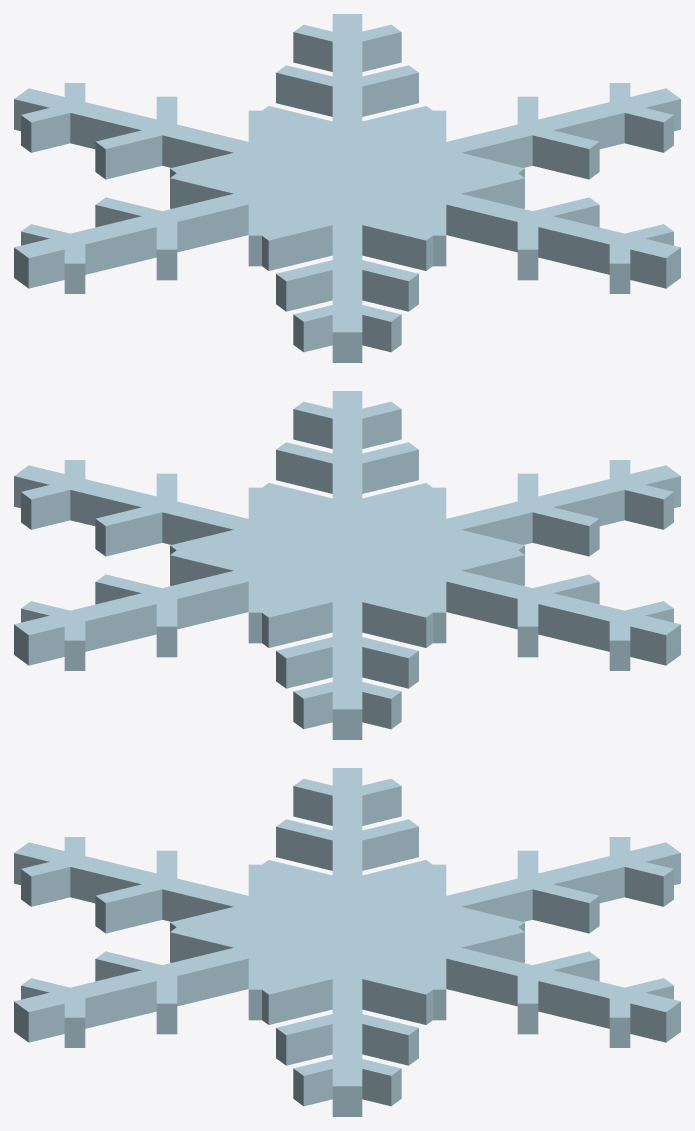
The model's file is NEW_RECOVERY_071_LOD1.fbx.
3 renders of one model, top to bottom at view 1: azimuth 30°, elevation 25°; view 2: azimuth 150°, elevation 25°; view 3: azimuth 270°, elevation 25°, orthographic.
Parts seen in each view (by area): view 1: Snowflake_solid; view 2: Snowflake_solid; view 3: Snowflake_solid.
Boxes of the visible parts, x1,y1,x2,y2 form: Snowflake_solid: (14, 14, 680, 362); Snowflake_solid: (14, 391, 680, 739); Snowflake_solid: (14, 768, 680, 1116).
Size of the model in its own units: 280 by 248 by 12.5.
